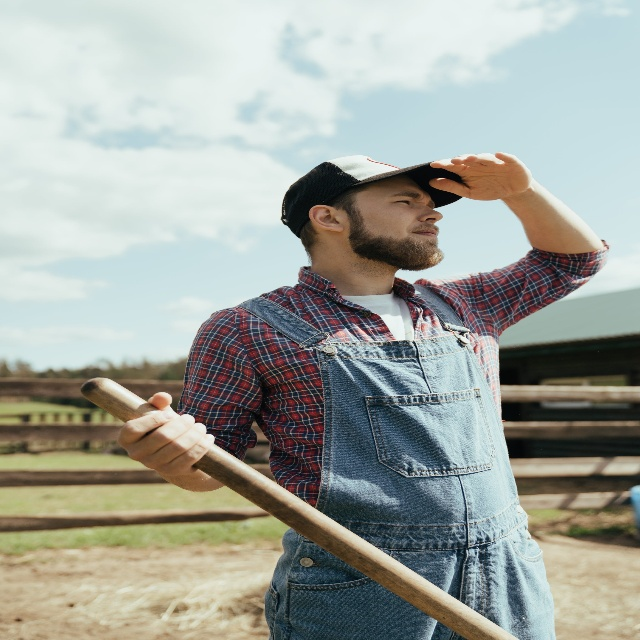Sin_guantes: (115, 385, 216, 484), (430, 145, 533, 205)
